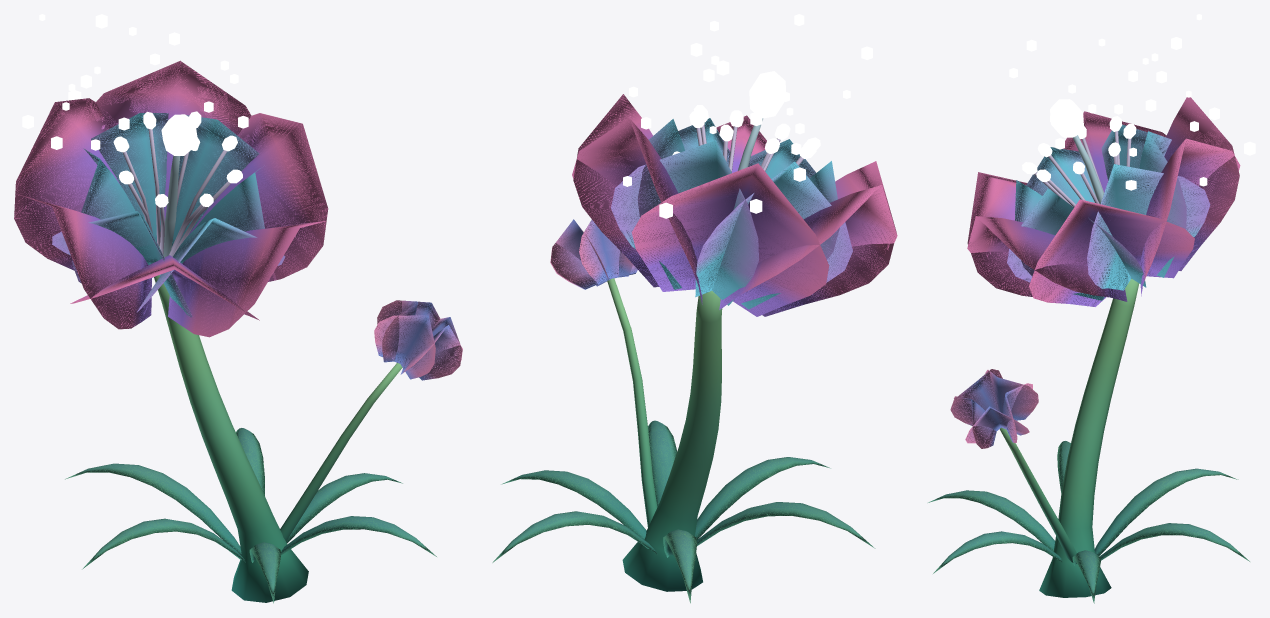
File: verdant_flower_hero_heartbloom.glb
3 views of the same model, side by side, from view 1: azimuth 30°, elevation 25°; view 2: azimuth 150°, elevation 25°; view 3: azimuth 270°, elevation 25° (orthographic). The views are drawn at different scales.
Visible parts, largest first — view 1: verdant_flower_hero_heartbloom; view 2: verdant_flower_hero_heartbloom; view 3: verdant_flower_hero_heartbloom.
Part boxes in pixels (bbox=[...]): verdant_flower_hero_heartbloom: bbox=[14, 14, 462, 603]; verdant_flower_hero_heartbloom: bbox=[492, 14, 897, 603]; verdant_flower_hero_heartbloom: bbox=[928, 14, 1255, 603].
Bounding box in the file's own units: 4.31 × 6.49 × 3.79.
